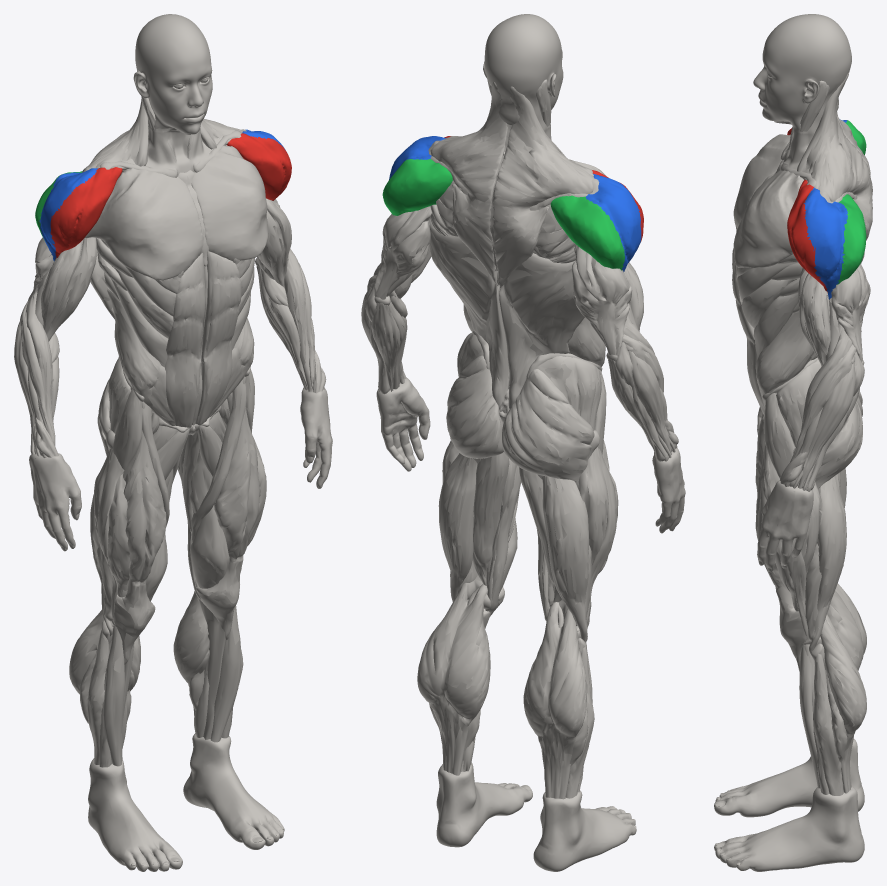
Rendered from ecorche-p4-p5-zones-controle.glb.
The picture shows the model from 3 angles, left to right: view 1: azimuth 30°, elevation 25°; view 2: azimuth 150°, elevation 25°; view 3: azimuth 270°, elevation 25°; orthographic projection.
Visible parts, largest first — view 1: head_throat.neutral_surface, pectoralis_major.right, pectoralis_major.left, m0_c040.right, m0_c040.left, m2_c001.left, m2_c001.right, rectus_abdominis.right, rectus_abdominis.left, deltoid.right, m2_c000.right, m0_c014.right (+37 smaller); view 2: trapezius.right, m0_c027.left, m0_c027.right, latissimus_dorsi.right, m0_c043.right, trapezius.left, head_throat.neutral_surface, deltoid.right, m2_c001.right, latissimus_dorsi.left, m0_c037.right, m2_c001.left (+23 smaller); view 3: head_throat.neutral_surface, m2_c001.left, deltoid.left, trapezius.left, pectoralis_major.left, m2_c001.right, m2_c000.left, m0_c027.left, m0_c037.left, m0_c053.left, m0_c040.left, m0_c032.left (+28 smaller).
Boxes of the visible parts, box(x1,y1,x2,y2) form: head_throat.neutral_surface: box(112, 14, 234, 177); pectoralis_major.right: box(84, 168, 203, 280); pectoralis_major.left: box(191, 145, 268, 260); m0_c040.right: box(113, 401, 166, 664); m0_c040.left: box(196, 376, 260, 639); m2_c001.left: box(183, 733, 284, 849); m2_c001.right: box(88, 758, 182, 871); rectus_abdominis.right: box(165, 253, 205, 427); rectus_abdominis.left: box(195, 251, 241, 425); deltoid.right: box(35, 167, 122, 261); m2_c000.right: box(29, 453, 81, 551); m0_c014.right: box(41, 237, 96, 341); trapezius.right: box(493, 86, 593, 286); m0_c027.left: box(417, 583, 490, 775); m0_c027.right: box(523, 602, 587, 799); latissimus_dorsi.right: box(499, 253, 584, 409); m0_c043.right: box(502, 369, 594, 485); trapezius.left: box(430, 82, 507, 285); head_throat.neutral_surface: box(483, 14, 563, 139); deltoid.right: box(550, 170, 643, 271); m2_c001.right: box(533, 790, 636, 871); latissimus_dorsi.left: box(429, 219, 508, 409); m0_c037.right: box(542, 476, 589, 642); m2_c001.left: box(436, 763, 532, 847); head_throat.neutral_surface: box(753, 14, 851, 182); m2_c001.left: box(714, 787, 864, 871); deltoid.left: box(787, 179, 866, 299); trapezius.left: box(797, 72, 872, 240); pectoralis_major.left: box(733, 170, 803, 267); m2_c001.right: box(714, 738, 864, 817); m2_c000.left: box(757, 480, 813, 572); m0_c027.left: box(820, 614, 866, 793); m0_c037.left: box(809, 474, 846, 653); m0_c053.left: box(755, 310, 813, 407); m0_c040.left: box(755, 441, 807, 671); m0_c032.left: box(813, 651, 843, 795).
Size of the model in its own units: 0.6798 by 1.8 by 0.3165.
